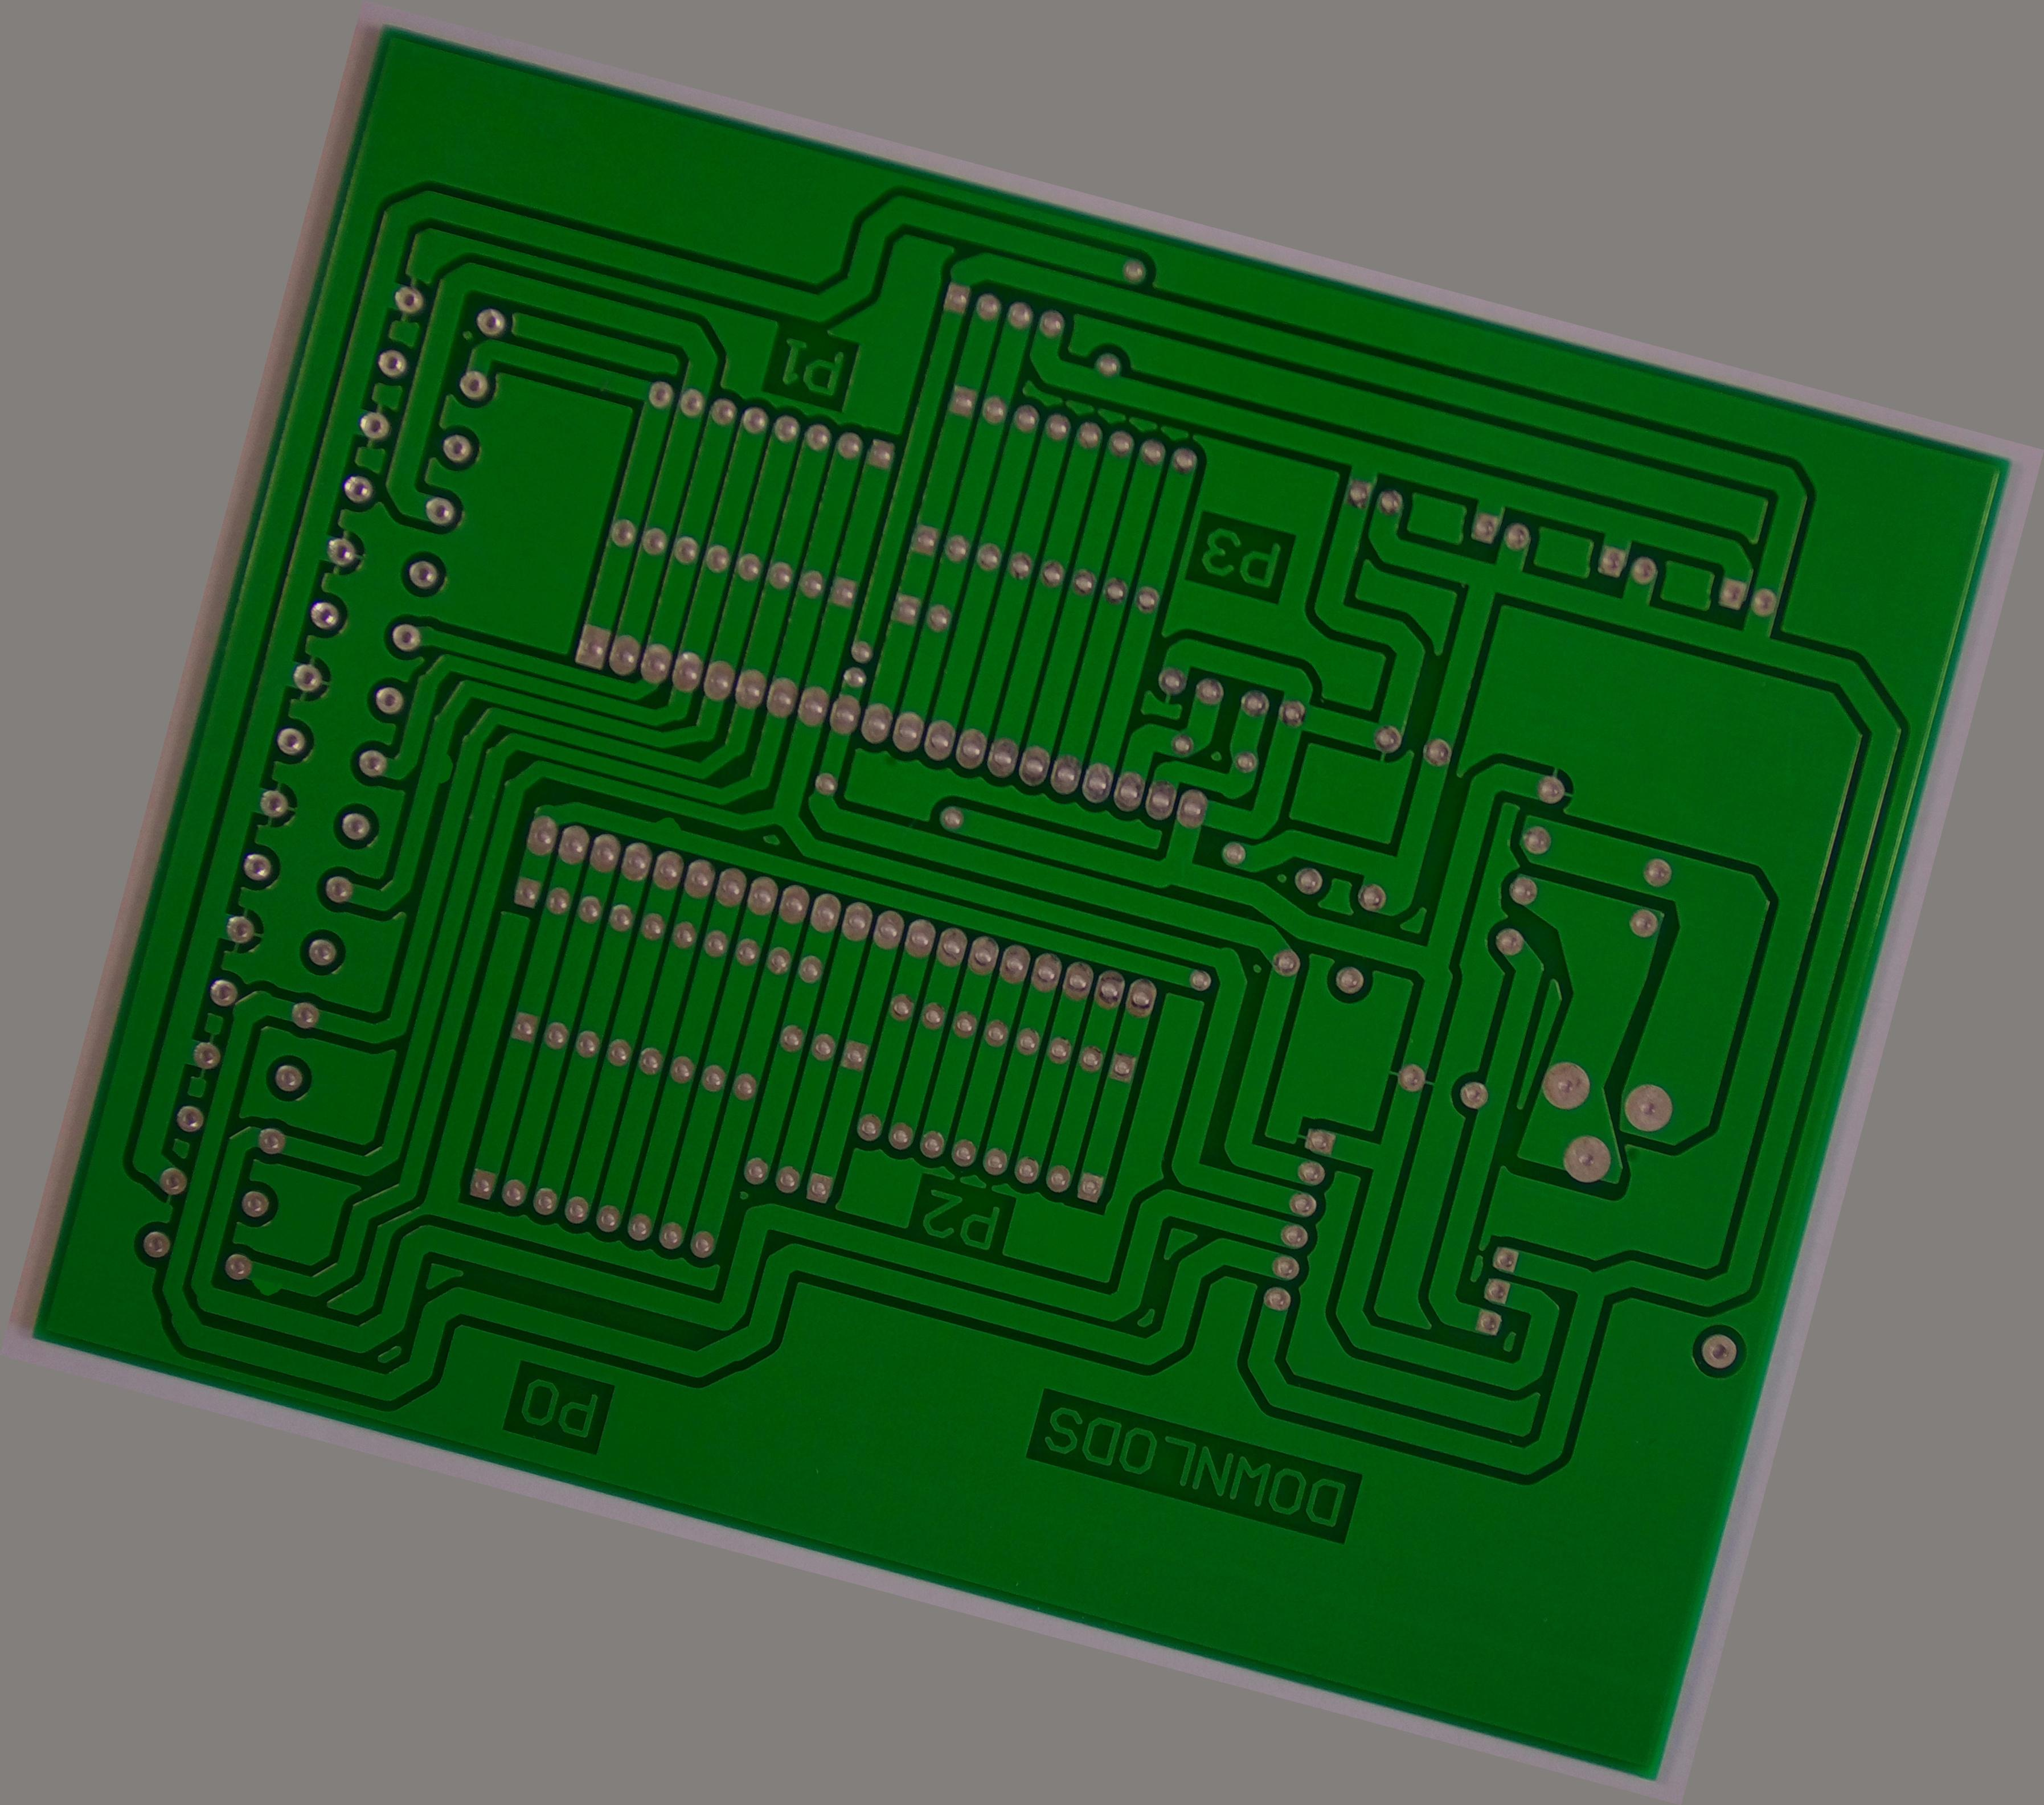spur: (423, 744, 464, 796), (640, 805, 694, 842), (240, 1265, 286, 1307)
